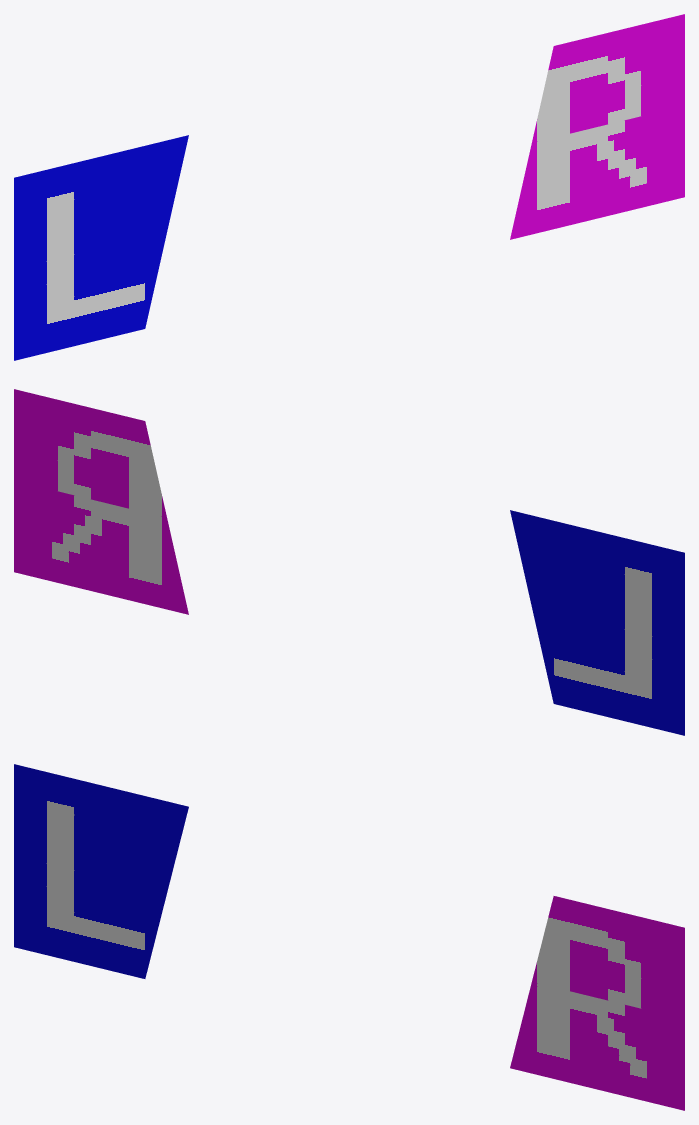
File: wipe_slide__wipe_slide.glb
3 views of the same model, one above another, from view 1: azimuth 30°, elevation 25°; view 2: azimuth 150°, elevation 25°; view 3: azimuth 330°, elevation 25° (orthographic).
Visible parts, largest first — view 1: polygon0, polygon1; view 2: polygon0, polygon1; view 3: polygon0, polygon1.
Part boxes in pixels (x1,y1,x2,y2): polygon0: [14, 135, 188, 360]; polygon1: [510, 14, 684, 239]; polygon0: [510, 510, 684, 735]; polygon1: [14, 389, 188, 614]; polygon0: [14, 764, 188, 978]; polygon1: [510, 896, 684, 1110].
Bounding box in the file's own units: 92 × 24 × 0.
Materials: 2 (2 with a texture image).
